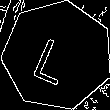L_NE: (33, 27, 82, 85)
